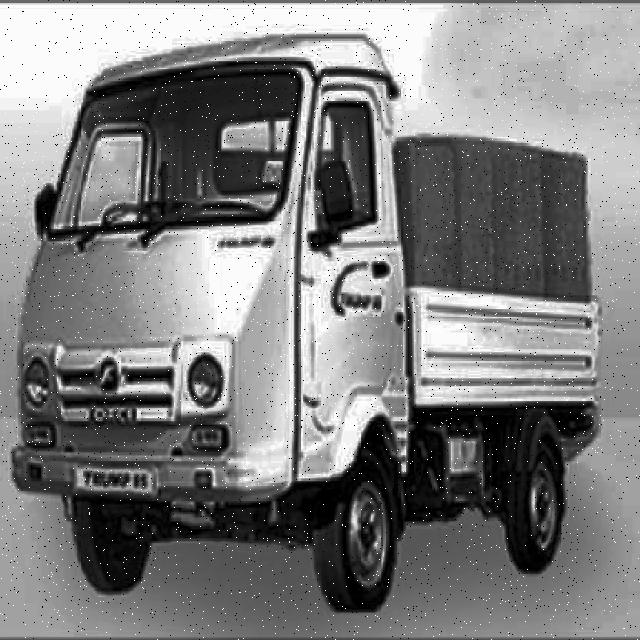LCV: (14, 66, 596, 592)
